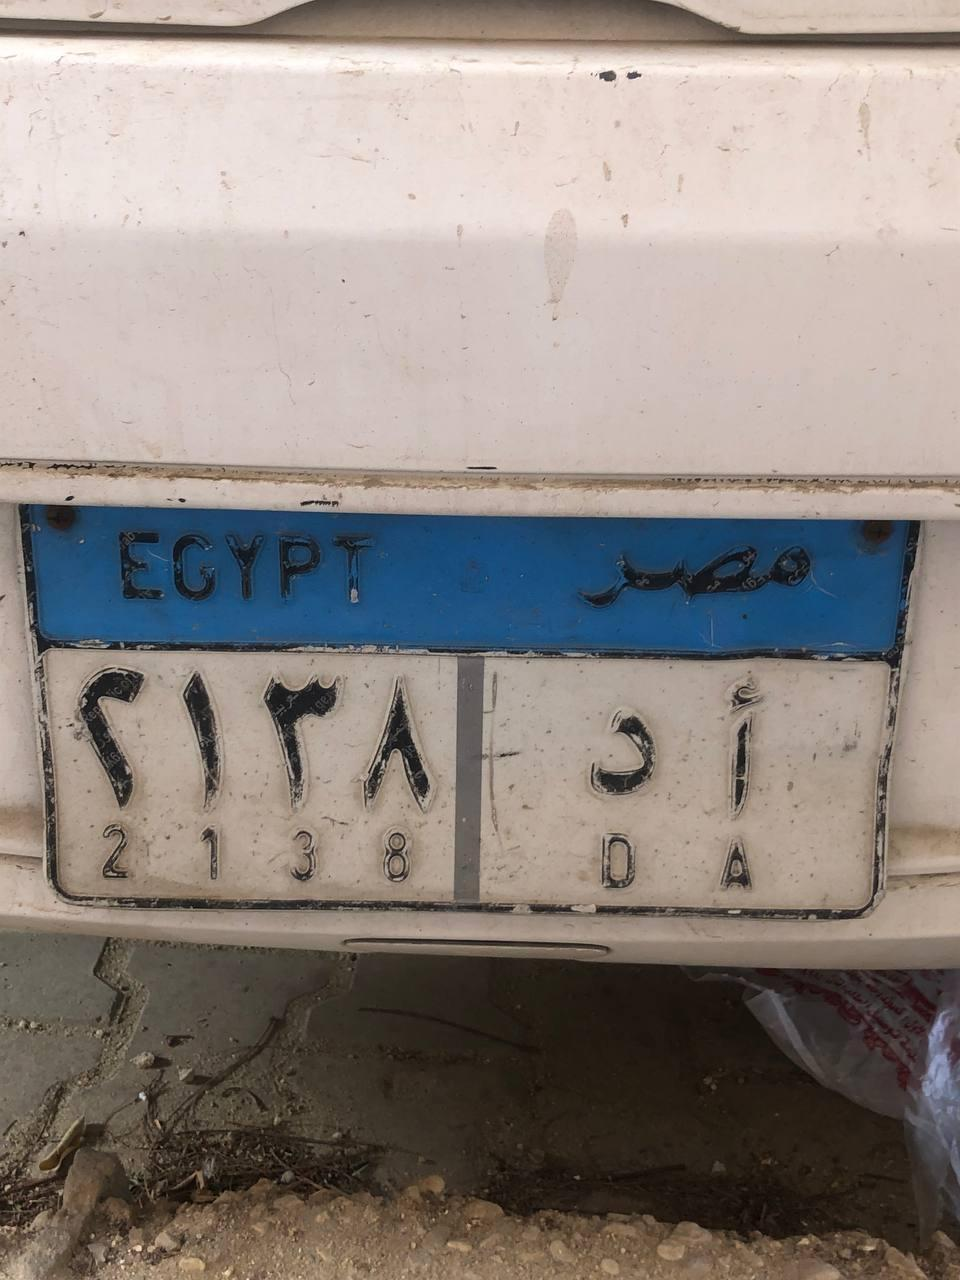1: (168, 673, 234, 815)
2: (72, 661, 158, 817)
3: (262, 658, 334, 801)
8: (360, 668, 447, 797)
License Plate: (4, 495, 949, 966)
alef: (704, 674, 796, 830)
daal: (573, 716, 667, 796)
